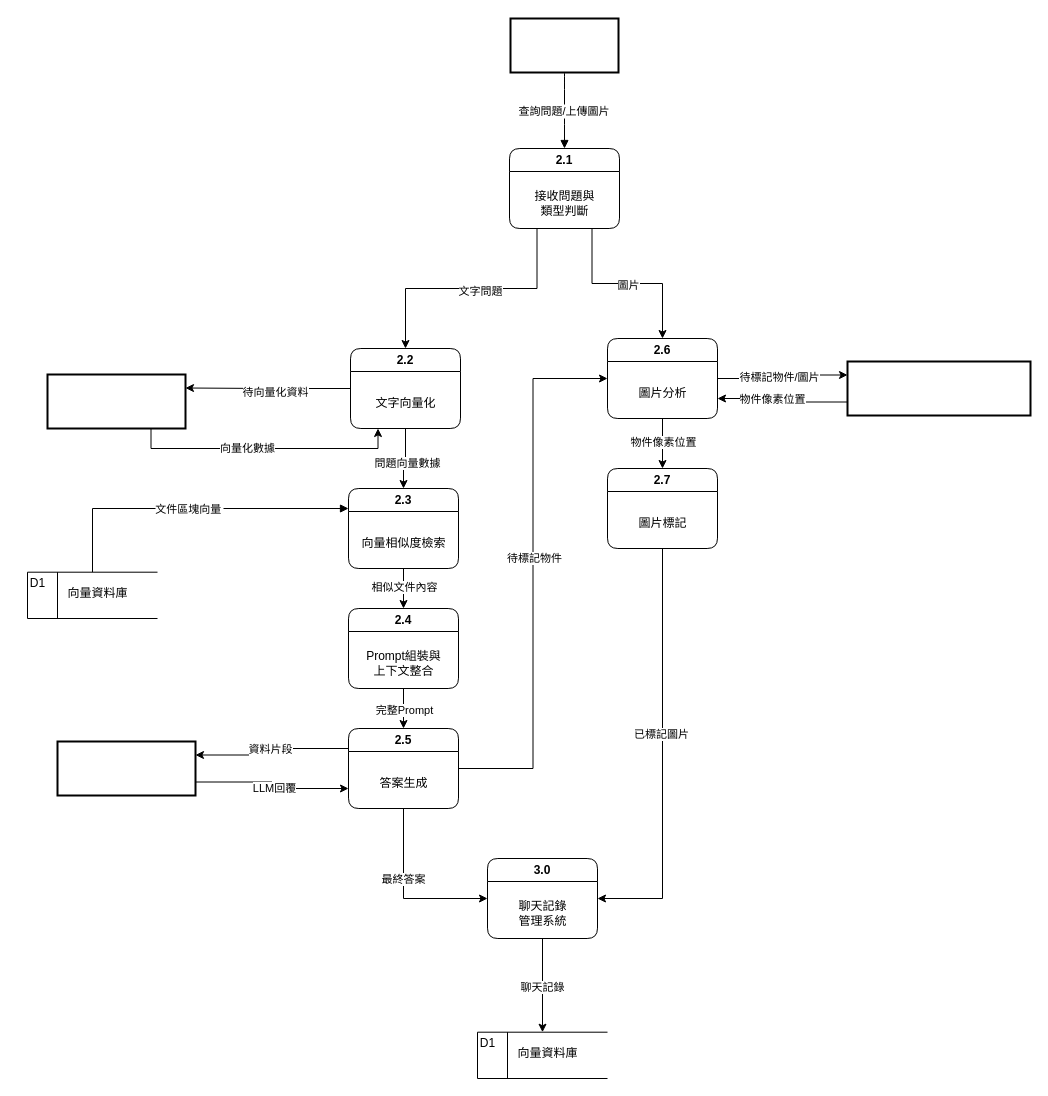
Image size: 1048x1096. Some labels were removed from this diagram. Each missing label, with the box of its shape:
Google Vision API: (846, 360, 1031, 416)
OpenAI Embedding API: (46, 373, 186, 429)
OpenAI LLM API: (56, 740, 196, 796)
使用者: (509, 17, 619, 73)
